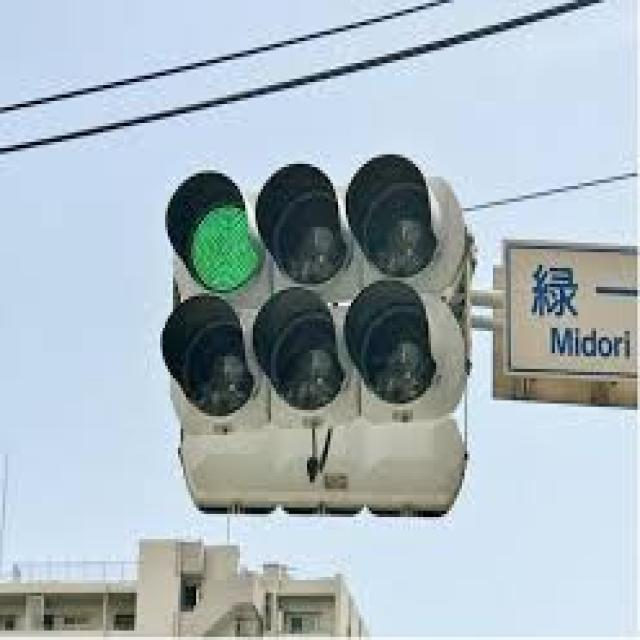Green_light: (162, 170, 471, 288)
